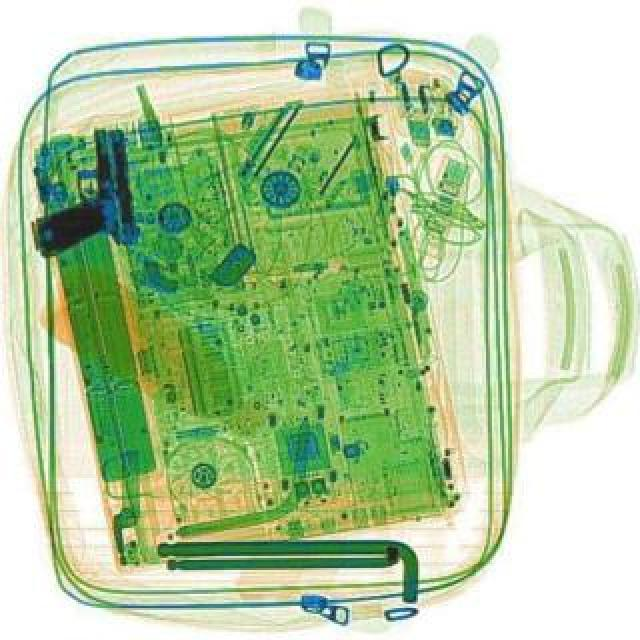gun: (18, 124, 140, 258)
